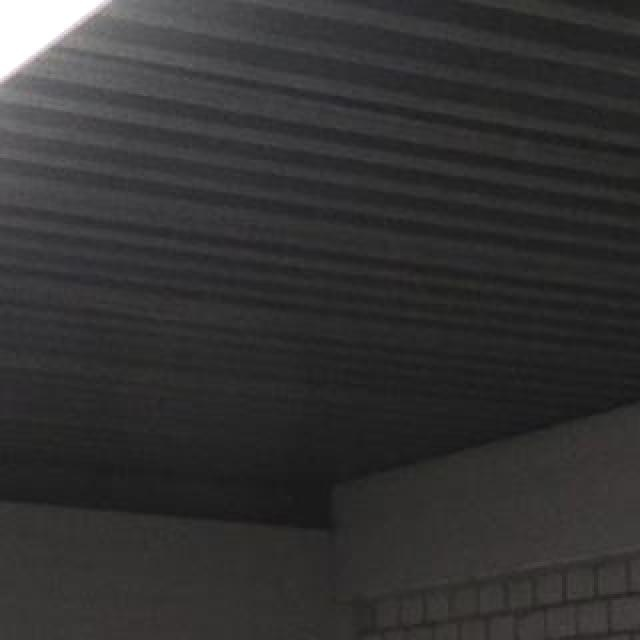fluorescent tube: (0, 0, 540, 460)
